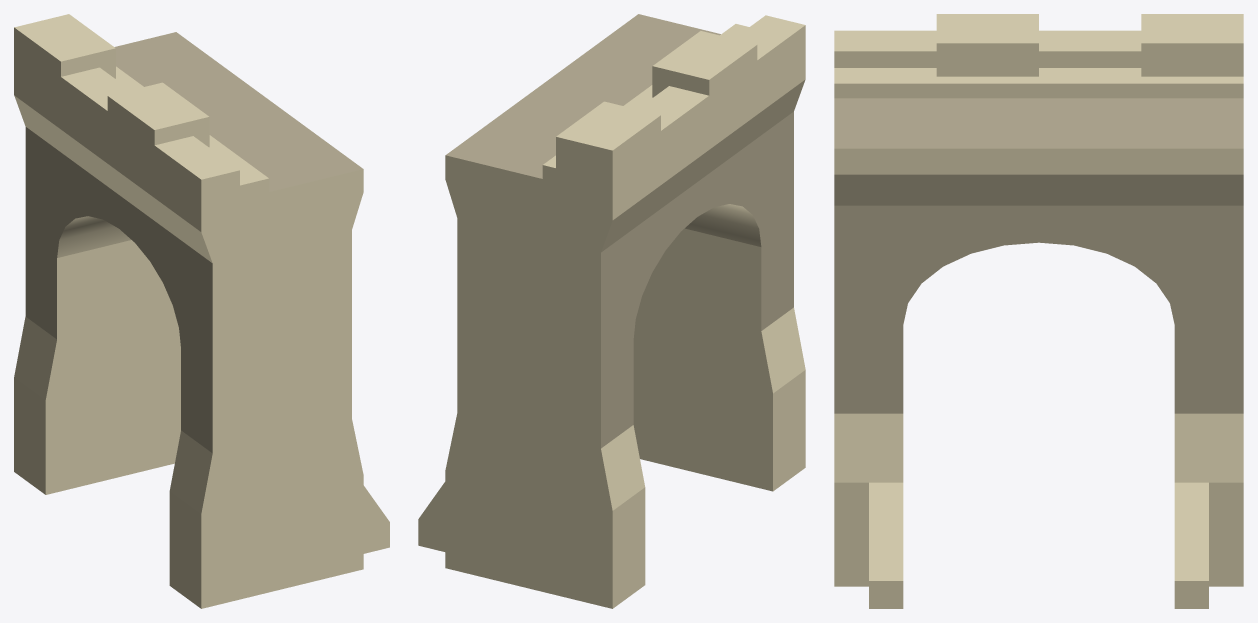
The model's file is wallNarrowGate.glb.
3 renders of one model, left to right at view 1: azimuth 30°, elevation 25°; view 2: azimuth 150°, elevation 25°; view 3: azimuth 270°, elevation 25°, orthographic. The views are drawn at different scales.
Parts seen in each view (by area): view 1: mesh_id4, mesh_id5; view 2: mesh_id4, mesh_id5; view 3: mesh_id4, mesh_id5.
Part boxes in pixels (x1=…): mesh_id4: x1=14, y1=14, x2=389, y2=608; mesh_id5: x1=25, y1=32, x2=362, y2=452; mesh_id4: x1=418, y1=15, x2=805, y2=608; mesh_id5: x1=446, y1=14, x2=793, y2=448; mesh_id4: x1=834, y1=14, x2=1243, y2=608; mesh_id5: x1=834, y1=98, x2=1243, y2=413.
Bounding box in the file's own units: 0.2462 × 0.512 × 0.3908.
2 materials, 2 textured.
